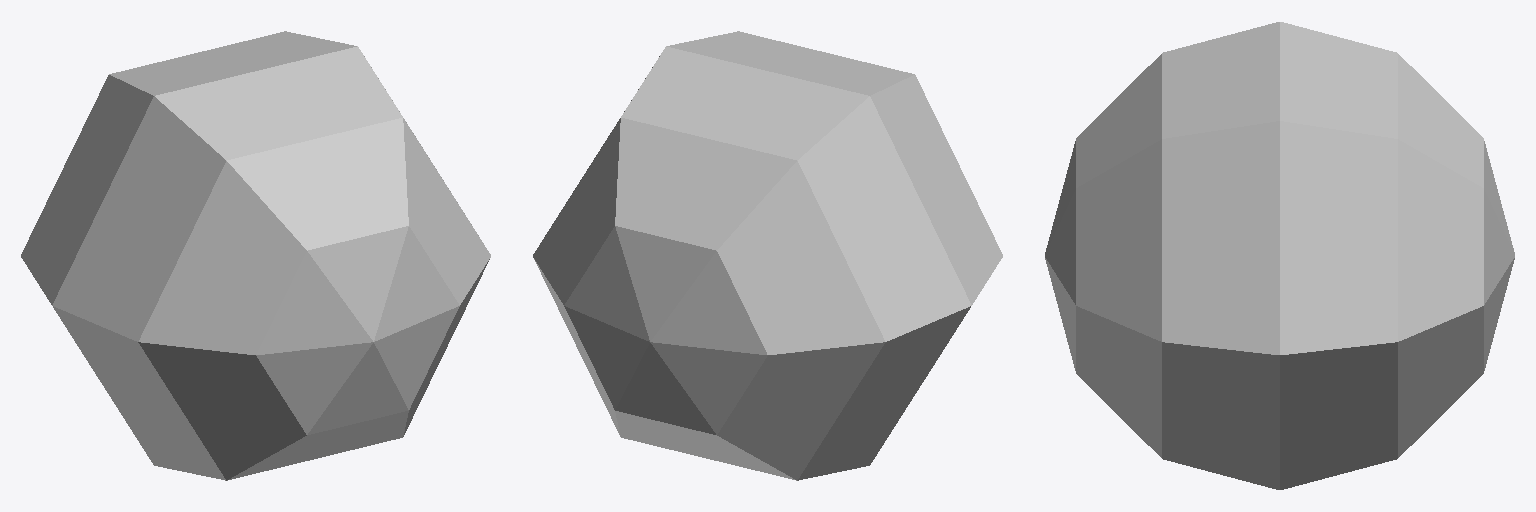
The model's file is ballForFarDistance.obj.
The picture shows the model from 3 angles: view 1: azimuth 30°, elevation 25°; view 2: azimuth 150°, elevation 25°; view 3: azimuth 270°, elevation 25°; orthographic projection.
Parts seen in each view (by area): view 1: sphere2; view 2: sphere2; view 3: sphere2.
Part boxes in pixels (x1,y1,x2,y2): sphere2: (21, 31, 490, 480); sphere2: (533, 31, 1002, 480); sphere2: (1045, 22, 1514, 489).
Bounding box in the file's own units: 2 × 1.73 × 2.